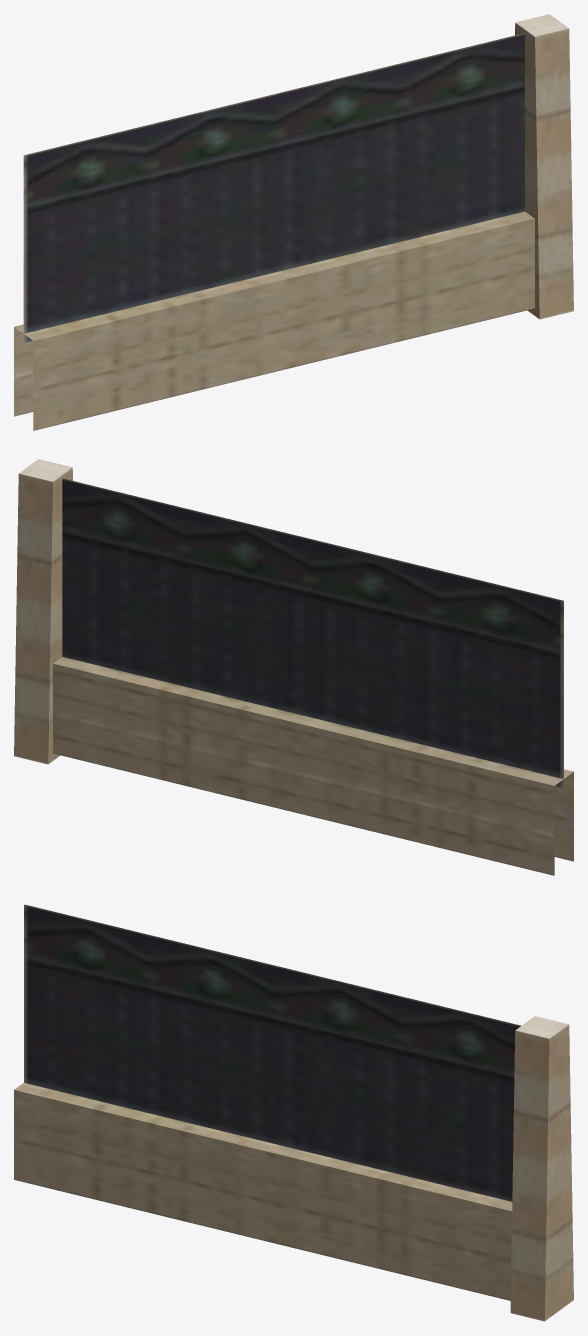
The model's file is thm_nboo_imprv_metal_fence_wall_sml_s01_l2.fbx.
3 renders of one model, top to bottom at view 1: azimuth 30°, elevation 25°; view 2: azimuth 150°, elevation 25°; view 3: azimuth 330°, elevation 25°, orthographic.
Parts seen in each view (by area): view 1: mesh_node; view 2: mesh_node; view 3: mesh_node.
Boxes of the visible parts, bbox=[...] form: mesh_node: bbox=[14, 14, 573, 430]; mesh_node: bbox=[14, 459, 573, 875]; mesh_node: bbox=[14, 904, 573, 1321].
Size of the model in its own units: 3.18 by 1.58 by 0.3.
2 materials, 2 textured.
